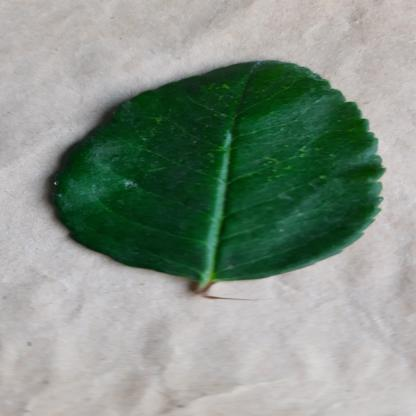normal: (50, 61, 383, 281)
